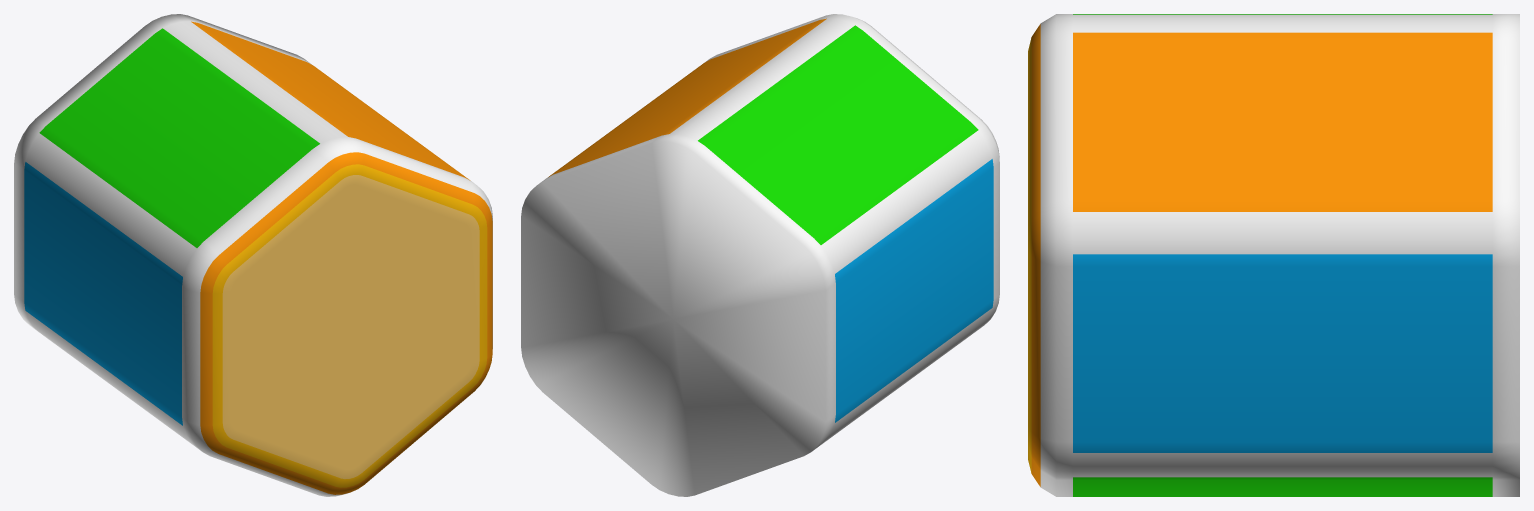
File: D_FBX_06_Bumper_02_C.fbx
3 views of the same model, side by side, from view 1: azimuth 30°, elevation 25°; view 2: azimuth 150°, elevation 25°; view 3: azimuth 270°, elevation 25° (orthographic). The views are drawn at different scales.
Parts seen in each view (by area): view 1: D_FBX_06_Bumper_02_C; view 2: D_FBX_06_Bumper_02_C; view 3: D_FBX_06_Bumper_02_C.
Part boxes in pixels (<box>): D_FBX_06_Bumper_02_C: <box>14,14,492,496</box>; D_FBX_06_Bumper_02_C: <box>521,14,999,496</box>; D_FBX_06_Bumper_02_C: <box>1028,14,1519,496</box>.
Size of the model in its own units: 2 by 2.21 by 2.1.
